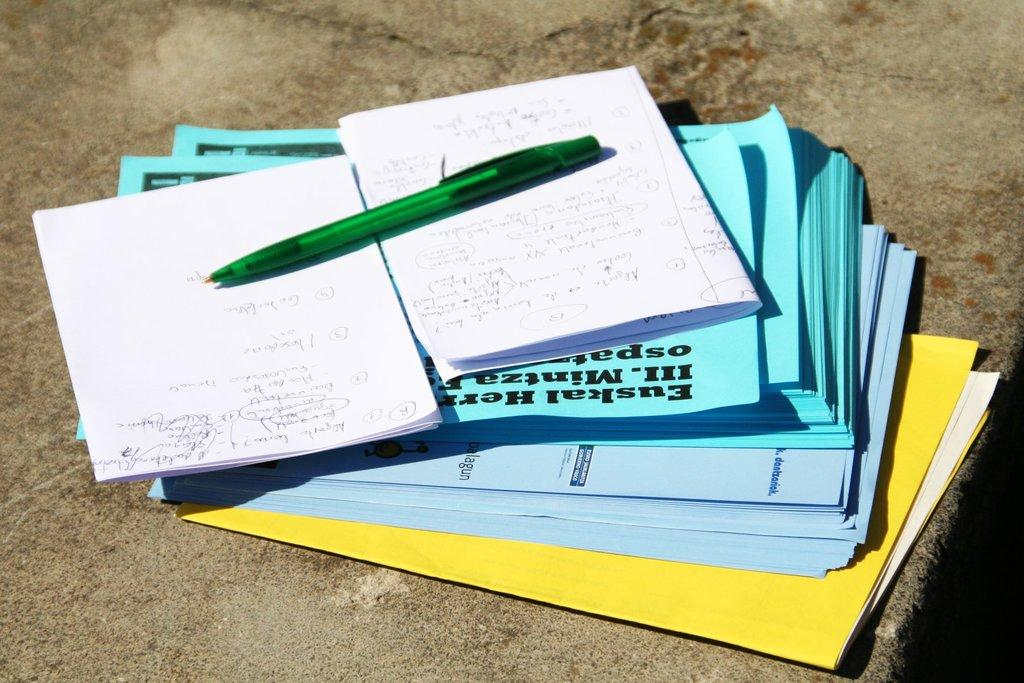pen: (196, 132, 604, 288)
